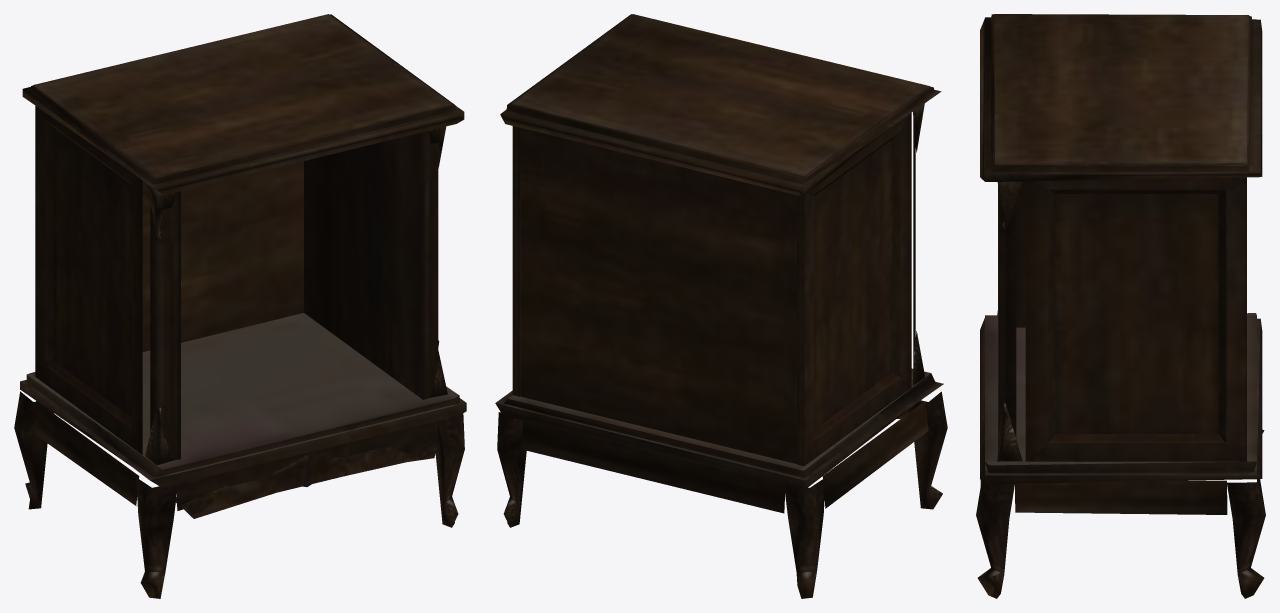
The model's file is ClassicNightstand_01.glb.
3 views of the same model, side by side, from view 1: azimuth 30°, elevation 25°; view 2: azimuth 150°, elevation 25°; view 3: azimuth 270°, elevation 25° (orthographic). The views are drawn at different scales.
Parts seen in each view (by area): view 1: ClassicNightstand_01; view 2: ClassicNightstand_01; view 3: ClassicNightstand_01.
Part boxes in pixels (x1=…): ClassicNightstand_01: x1=14, y1=14, x2=466, y2=598; ClassicNightstand_01: x1=495, y1=14, x2=947, y2=598; ClassicNightstand_01: x1=976, y1=14, x2=1265, y2=598.
Size of the model in its own units: 0.5603 by 0.7 by 0.4242.
1 material, 1 textured.
